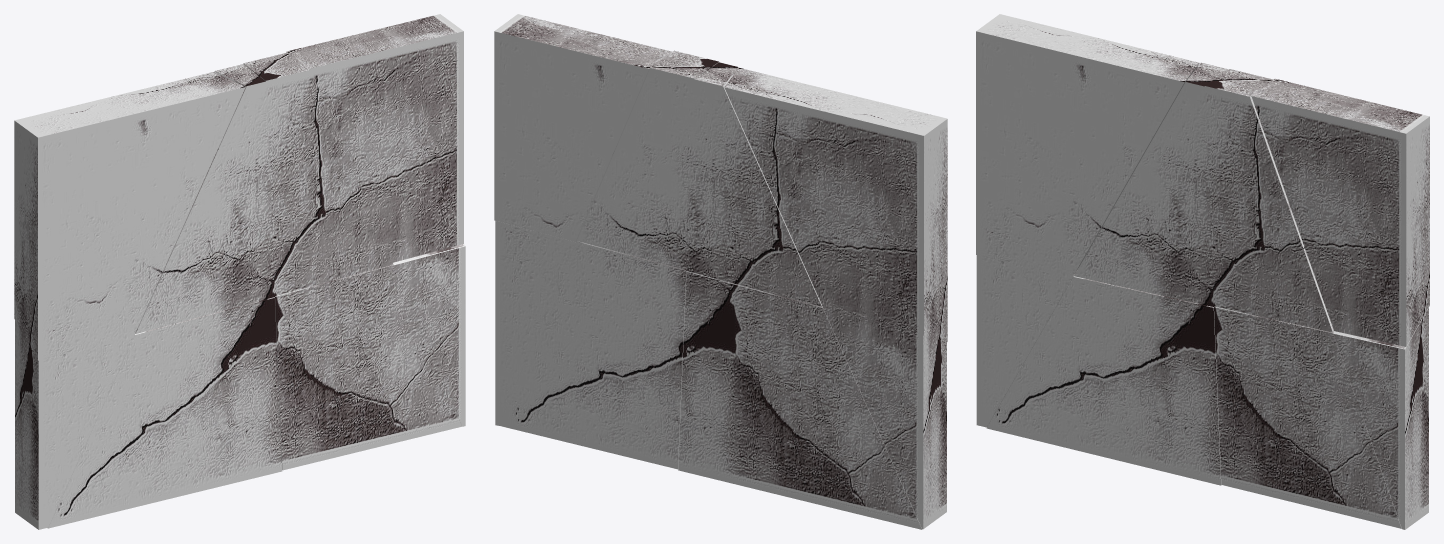
The model's file is wall_sliced up.FBX.
3 renders of one model, left to right at view 1: azimuth 30°, elevation 25°; view 2: azimuth 150°, elevation 25°; view 3: azimuth 330°, elevation 25°, orthographic.
Visible parts, largest first — view 1: Object001, Object007, Object004, Object006, Object003, Object002, Object008, Object005; view 2: Object001, Object007, Object006, Object004, Object002, Object003, Object008, Object005; view 3: Object001, Object007, Object004, Object006, Object003, Object002, Object005, Object008.
Part boxes in pixels (x1,y1,x2,y2): Object001: [14, 72, 245, 360]; Object007: [47, 297, 282, 528]; Object004: [286, 14, 463, 262]; Object006: [274, 265, 461, 470]; Object003: [243, 52, 393, 295]; Object002: [135, 64, 275, 333]; Object008: [15, 320, 134, 529]; Object005: [393, 244, 465, 426]; Object001: [724, 68, 947, 341]; Object007: [678, 272, 922, 529]; Object006: [498, 241, 699, 469]; Object004: [494, 14, 672, 242]; Object002: [686, 62, 822, 307]; Object003: [577, 50, 718, 270]; Object008: [823, 307, 946, 529]; Object005: [495, 221, 576, 425]; Object001: [976, 14, 1199, 276]; Object007: [986, 276, 1221, 485]; Object004: [1251, 78, 1429, 346]; Object006: [1214, 306, 1401, 528]; Object003: [1204, 69, 1333, 332]; Object002: [1074, 62, 1228, 306]; Object005: [1333, 307, 1428, 529]; Object008: [976, 255, 1077, 427].
Size of the model in its own units: 269 by 237 by 27.21.
1 material, 1 textured.
